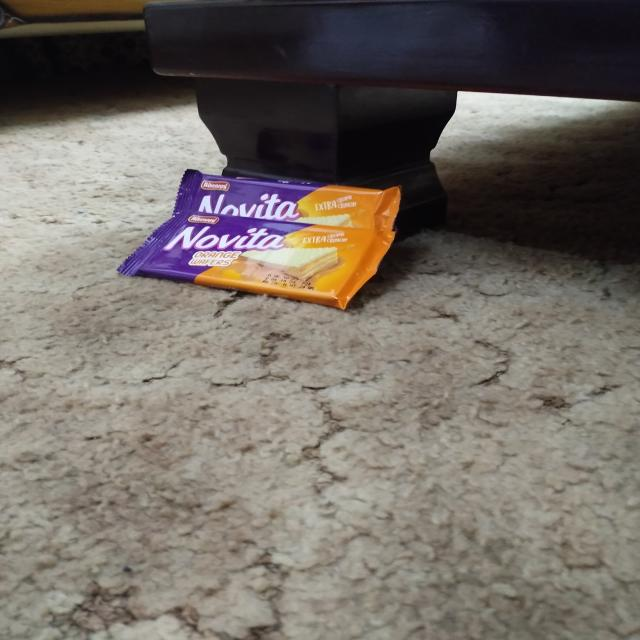Plastic: (128, 221, 394, 305), (173, 168, 400, 222)
